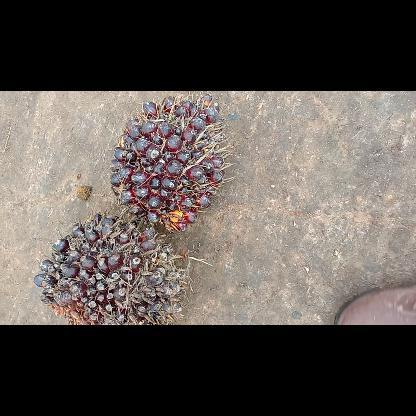TBS mentah: (35, 211, 186, 323), (112, 96, 228, 234)
